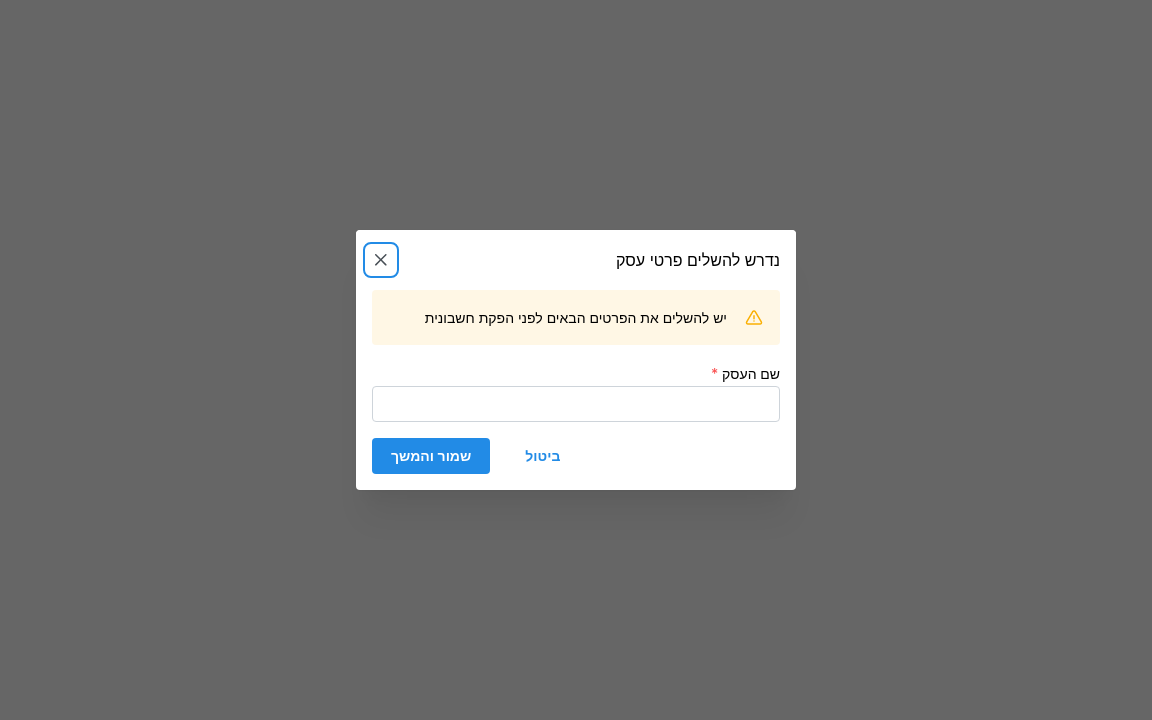
Scenario: BusinessProfileGateModal › shows inline error when PATCH fails
Type "עסק חדש" into the field labelled "שם העסק *".
click(576, 404); type("עסק חדש")  # box [372,386,780,422]
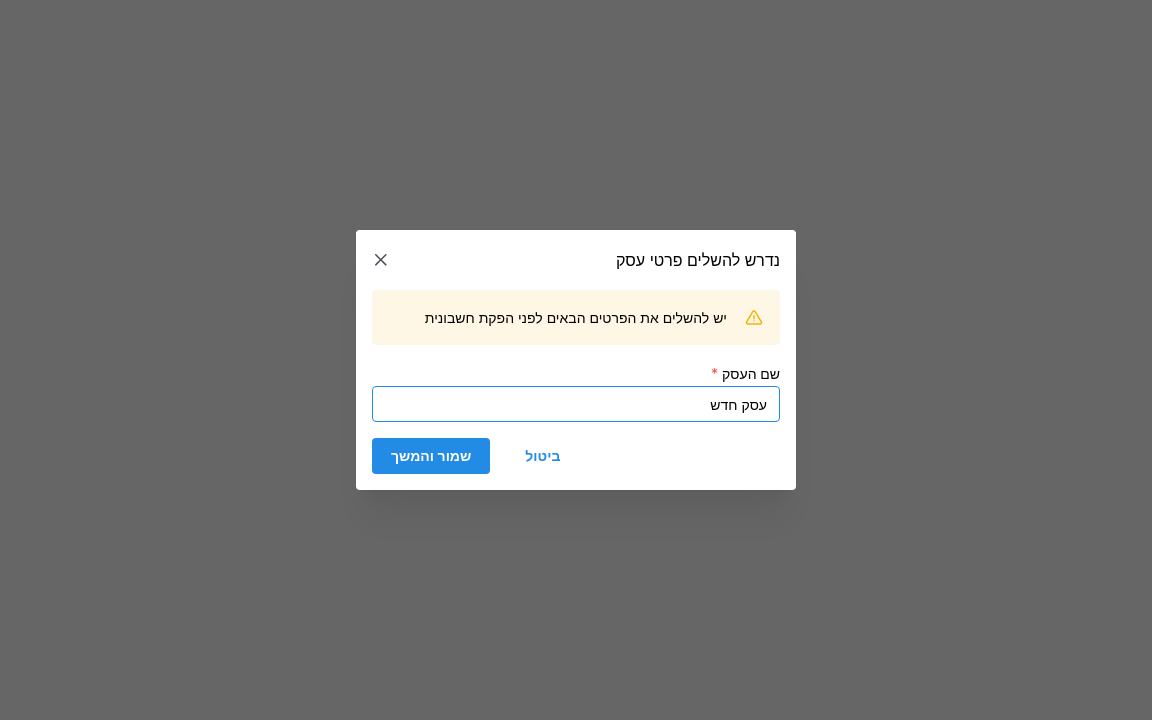
Click the button "שמור והמשך".
click(431, 456)  # box [372,438,490,474]
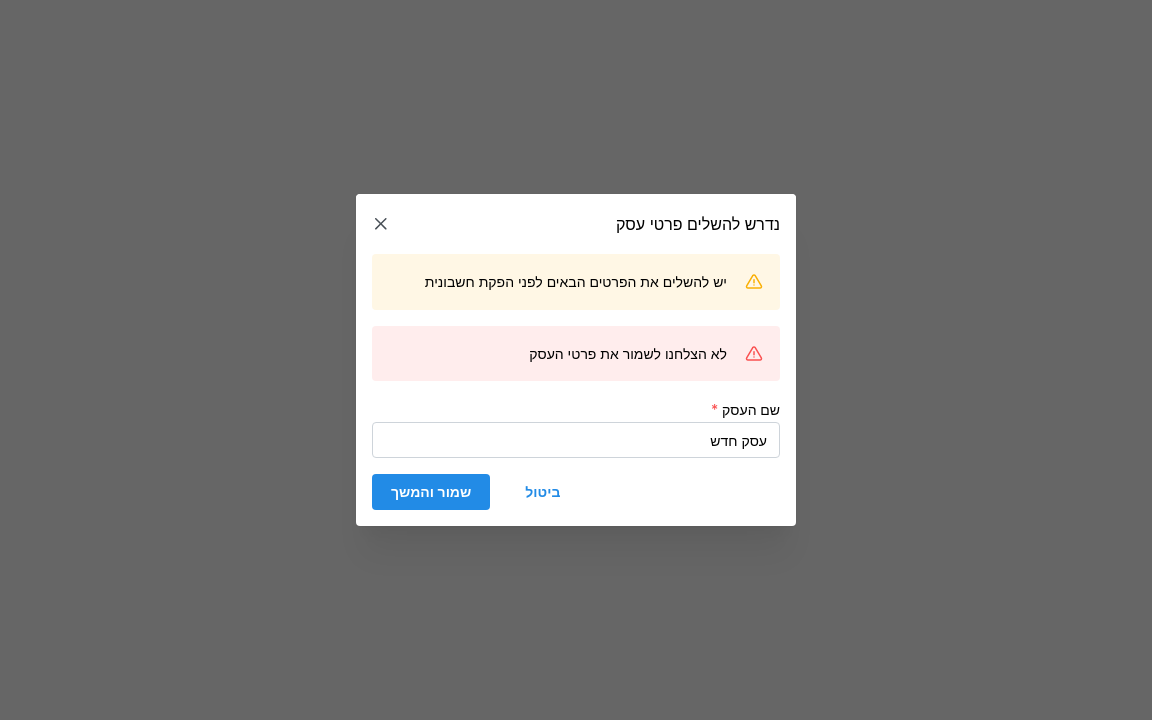
Check: the text "לא הצלחנו לשמור את פרטי העסק" is shown, box [529,345,727,362]
